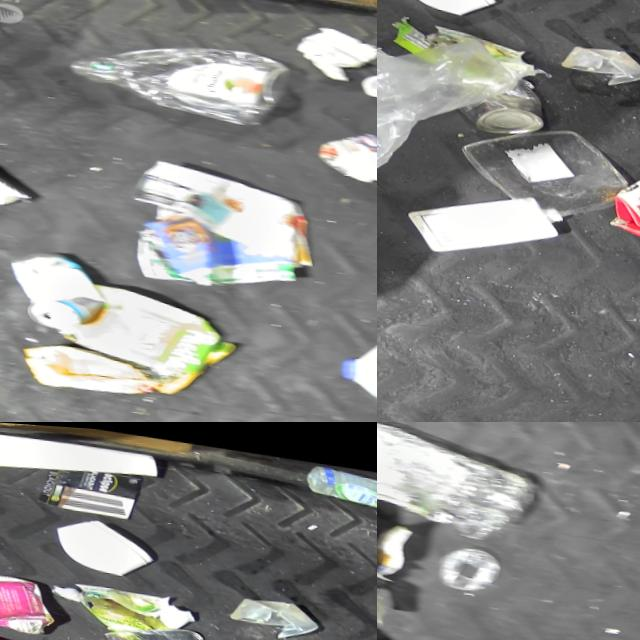can: (4, 243, 108, 334), (457, 65, 546, 134), (96, 609, 219, 640), (0, 156, 35, 211)
milk_jug: (404, 171, 569, 265)
non_white_jug: (63, 22, 291, 128), (599, 140, 640, 247)
plastic_bottle: (301, 454, 377, 510)
